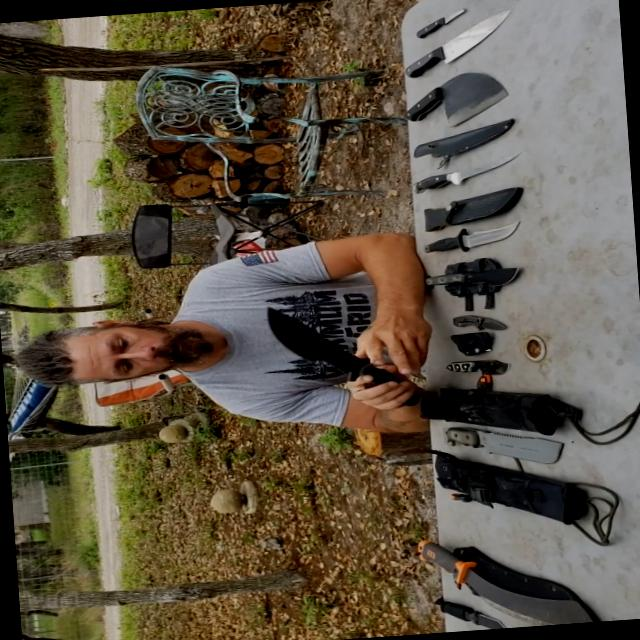knife: (405, 518, 607, 633), (252, 307, 428, 418), (384, 0, 527, 84), (383, 67, 525, 139), (400, 128, 530, 204), (441, 411, 576, 479), (407, 208, 542, 258), (414, 249, 534, 295), (418, 586, 510, 632), (429, 290, 514, 332), (396, 4, 466, 42), (431, 345, 503, 376)
